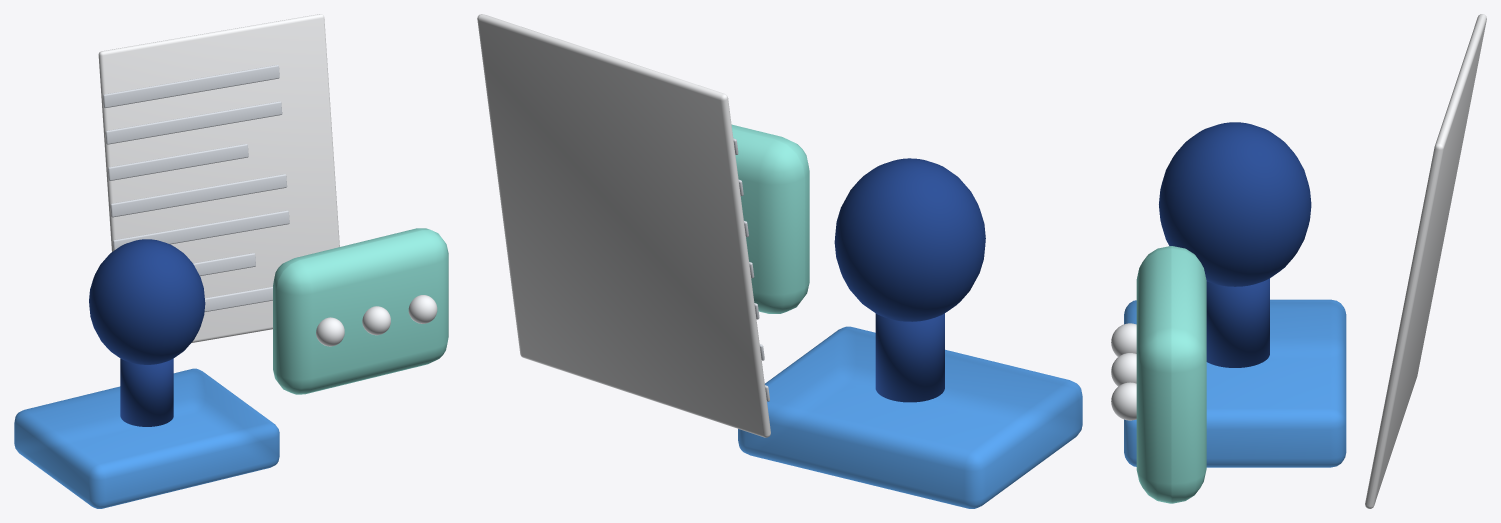
The model's file is module-05.glb.
3 renders of one model, left to right at view 1: azimuth 30°, elevation 25°; view 2: azimuth 150°, elevation 25°; view 3: azimuth 270°, elevation 25°, orthographic. The views are drawn at different scales.
Visible parts, largest first — view 1: report_paper, stamp_pad, bubble, stamp_knob, stamp_neck, report_line0, report_line1, report_line3, report_line4, report_line2, report_line6, report_line5 (+3 smaller); view 2: report_paper, stamp_pad, stamp_knob, bubble, stamp_neck; view 3: stamp_pad, stamp_knob, bubble, report_paper, stamp_neck, dot2, dot1, dot0.
Part boxes in pixels (x1=…): report_paper: x1=98, y1=14, x2=339, y2=343; stamp_pad: x1=14, y1=368, x2=279, y2=508; bubble: x1=273, y1=228, x2=448, y2=394; stamp_knob: x1=89, y1=239, x2=205, y2=364; stamp_neck: x1=120, y1=358, x2=173, y2=426; report_line0: x1=103, y1=65, x2=279, y2=108; report_line1: x1=105, y1=101, x2=282, y2=144; report_line3: x1=110, y1=174, x2=287, y2=217; report_line4: x1=113, y1=210, x2=289, y2=250; report_line2: x1=108, y1=144, x2=248, y2=180; report_line6: x1=204, y1=286, x2=272, y2=311; report_line5: x1=193, y1=253, x2=255, y2=275; report_paper: x1=477, y1=14, x2=770, y2=437; stamp_pad: x1=738, y1=326, x2=1082, y2=508; stamp_knob: x1=834, y1=158, x2=985, y2=321; bubble: x1=731, y1=124, x2=809, y2=313; stamp_neck: x1=875, y1=313, x2=944, y2=402; stamp_pad: x1=1124, y1=299, x2=1346, y2=467; stamp_knob: x1=1159, y1=122, x2=1311, y2=286; bubble: x1=1136, y1=246, x2=1206, y2=503; report_paper: x1=1365, y1=14, x2=1486, y2=508; stamp_neck: x1=1206, y1=278, x2=1269, y2=367; dot2: x1=1111, y1=382, x2=1136, y2=420; dot1: x1=1111, y1=353, x2=1136, y2=386; dot0: x1=1111, y1=323, x2=1136, y2=356.
Size of the model in its own units: 1.75 by 1.49 by 1.18.
